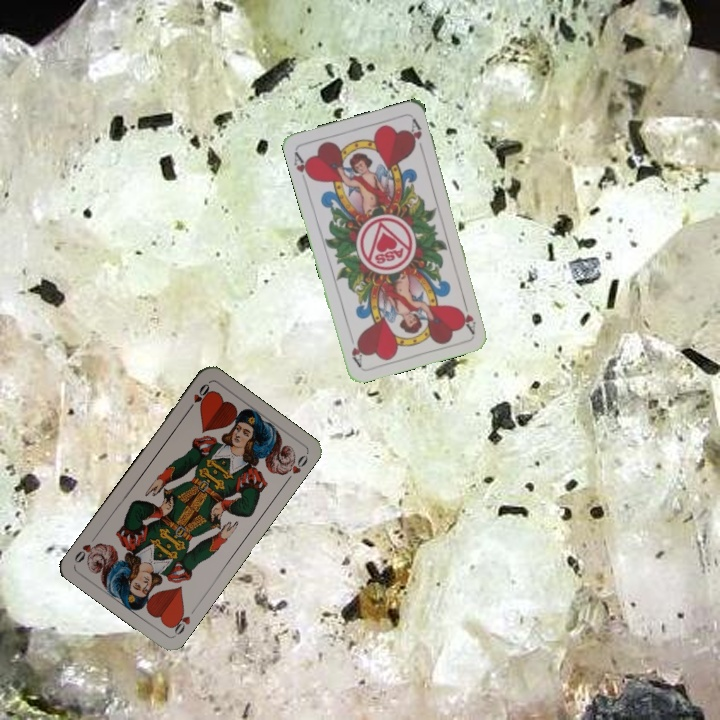HA: (290, 147, 315, 182), (457, 296, 478, 336)
HO: (183, 379, 213, 414), (166, 605, 193, 639)
